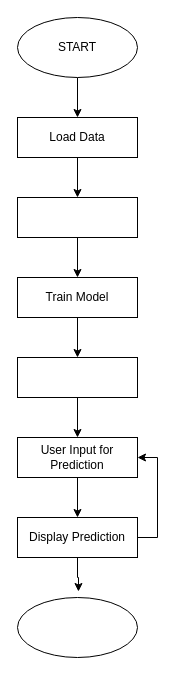
The diagram is 183 pixels wide and 675 high, and some of its shapes have lost their labels. Each missing label, with the box of its shape:
END: (16, 596, 138, 658)
Evaluate Model: (16, 356, 138, 398)
Preprocess Data: (16, 196, 138, 238)
